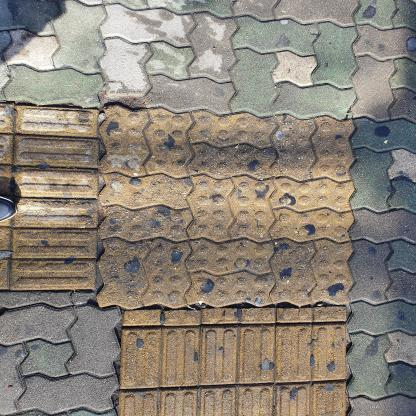podotacti: (0, 95, 355, 415)
